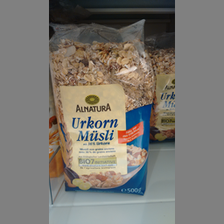cereal: (50, 25, 154, 195)
